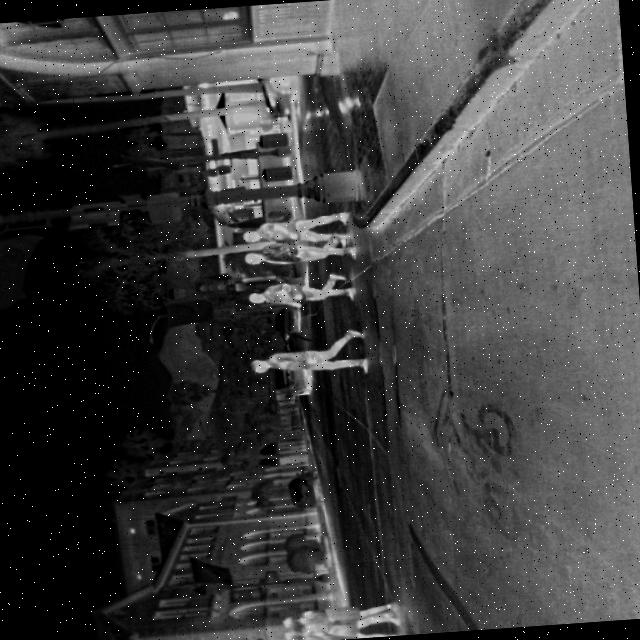Pedestrian: (247, 326, 370, 380), (237, 210, 357, 250), (280, 597, 402, 634), (246, 270, 356, 310), (242, 230, 358, 267), (283, 610, 404, 640)
Vehicle: (269, 362, 315, 400), (286, 466, 323, 508), (272, 306, 302, 336)
